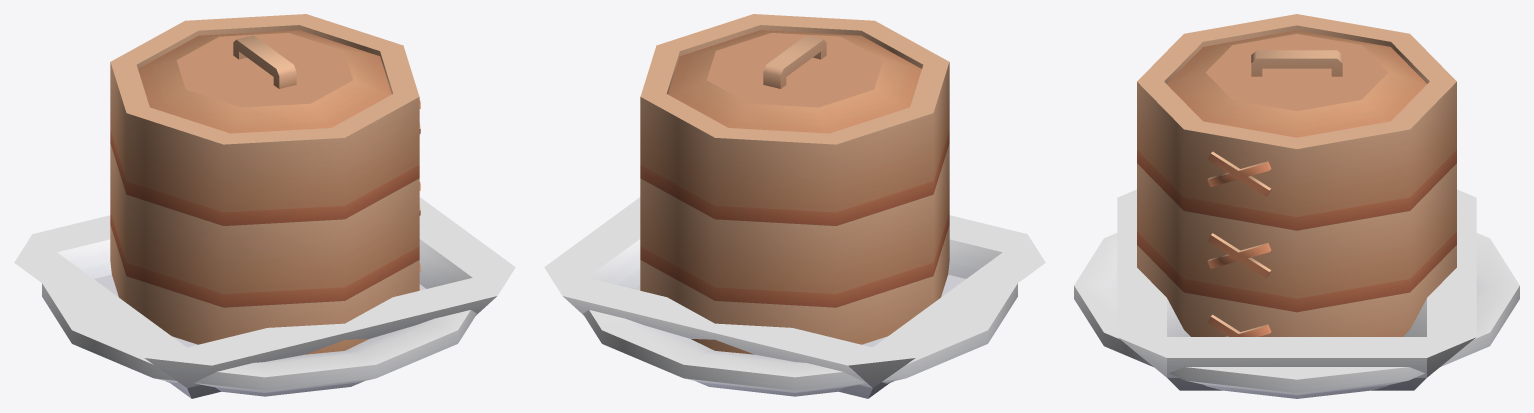
File: izakaya.glb
The picture shows the model from 3 angles, left to right: view 1: azimuth 30°, elevation 25°; view 2: azimuth 150°, elevation 25°; view 3: azimuth 270°, elevation 25°; orthographic projection.
Parts seen in each view (by area): view 1: layer (×3), plate-rectangle, lid, plate; view 2: layer (×3), plate-rectangle, lid, plate; view 3: layer (×3), plate-rectangle, lid, plate.
Part boxes in pixels (left/top/right/bottom): layer (×3): left=110, top=14, right=420, bottom=354; plate-rectangle: left=14, top=197, right=515, bottom=398; lid: left=138, top=30, right=391, bottom=133; plate: left=42, top=278, right=476, bottom=396; layer (×3): left=640, top=14, right=949, bottom=354; plate-rectangle: left=544, top=197, right=1045, bottom=398; lid: left=668, top=30, right=921, bottom=133; plate: left=583, top=278, right=1017, bottom=396; layer (×3): left=1137, top=14, right=1456, bottom=336; plate-rectangle: left=1117, top=189, right=1476, bottom=390; lid: left=1167, top=30, right=1426, bottom=137; plate: left=1074, top=233, right=1519, bottom=398.
Bounding box in the file's own units: 0.8918 × 0.6 × 0.8918.
1 material, 1 textured.
